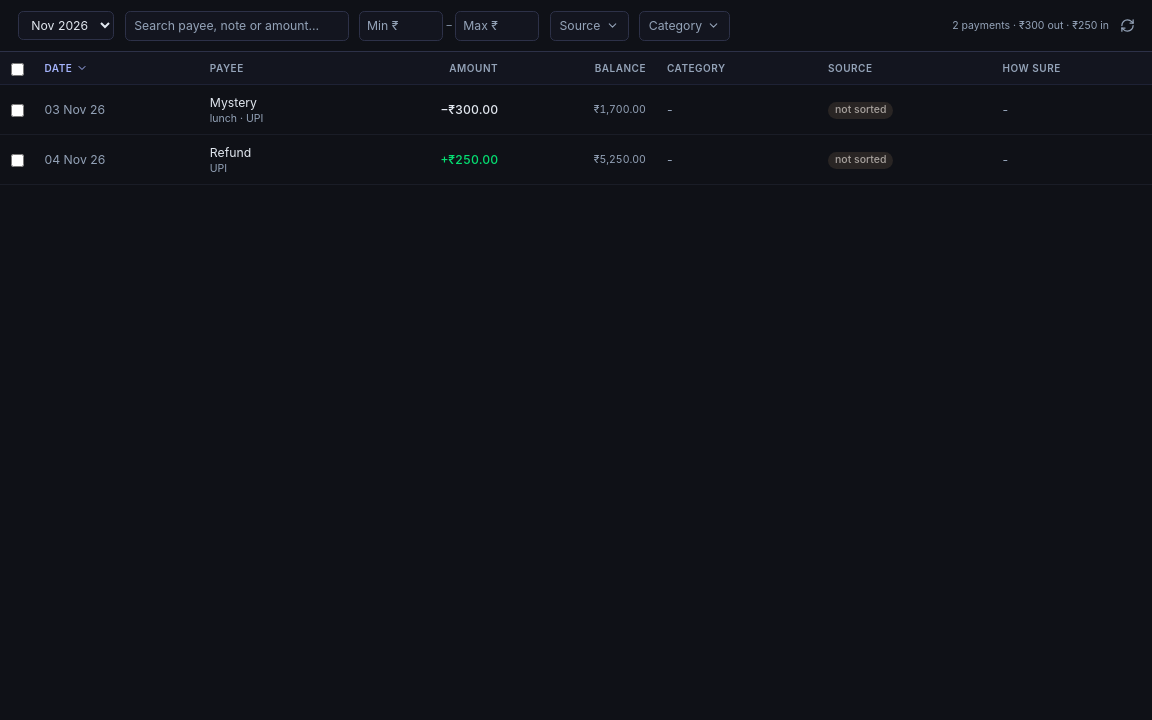
Transactions › writes a note on a payment and the row shows it at once, without a reload
Click the text "Mystery" at (233, 102), box [210,95,257,110]
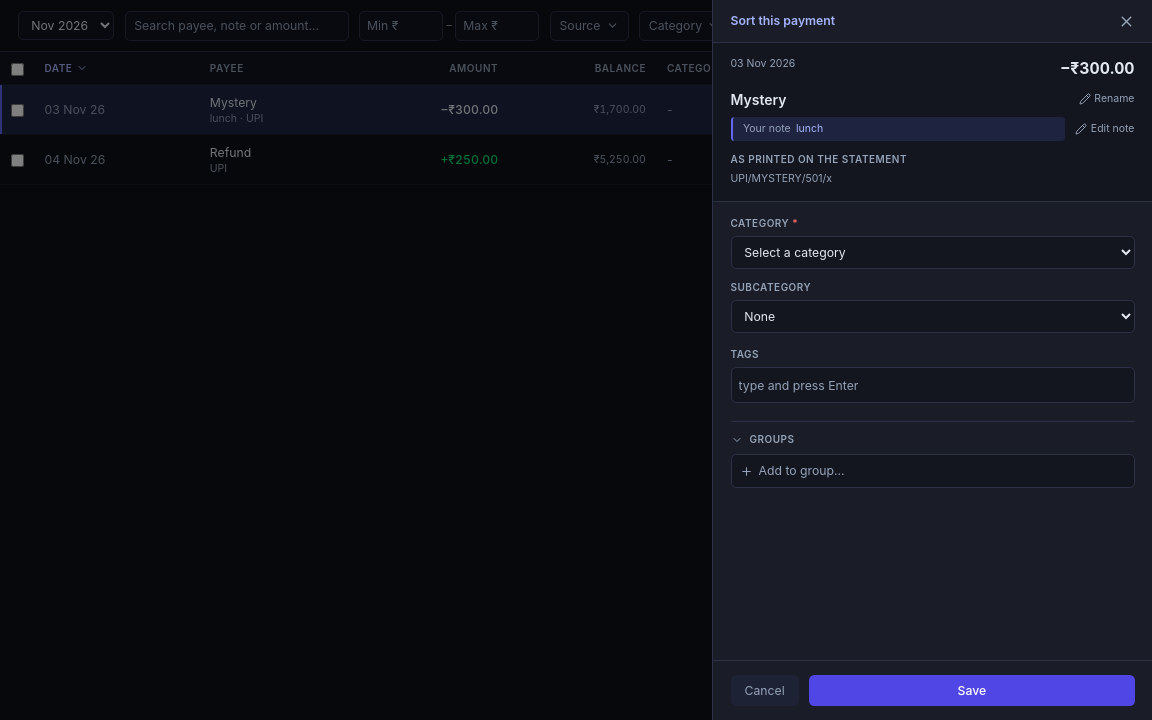
expect the text "As printed on the statement" is shown: met, box [730,152,907,164]
Click the button "Edit note" at (1105, 129), box [1075,122,1134,136]
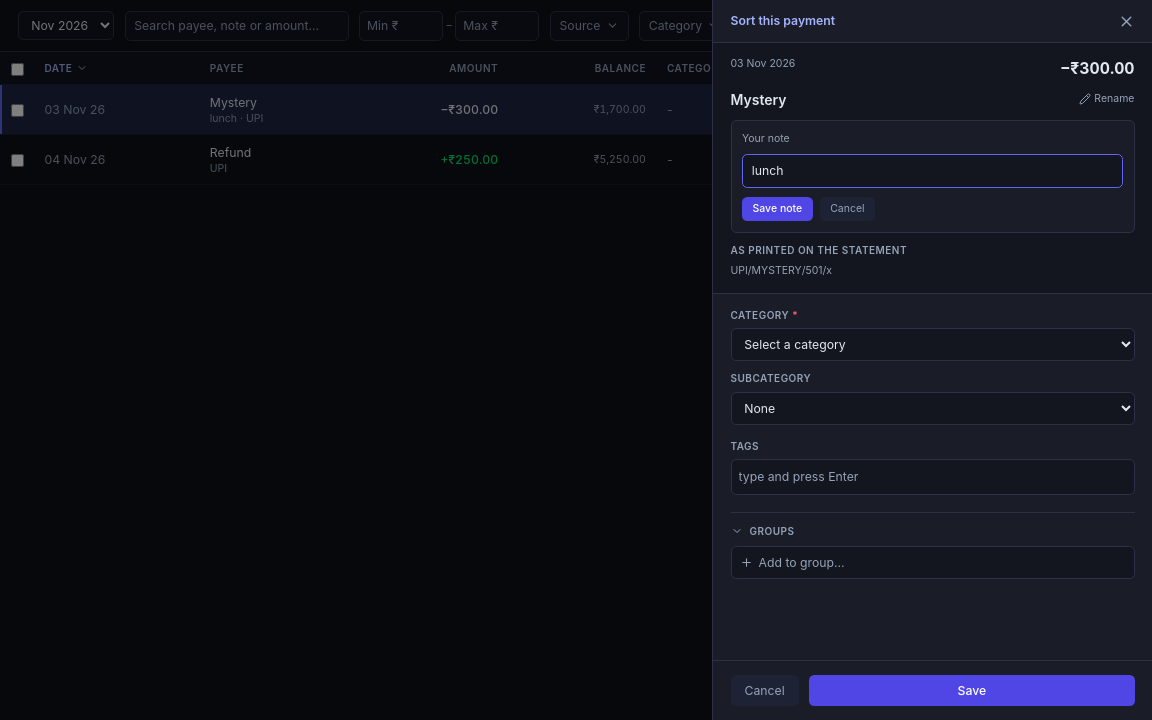
expect the field labelled "Your note" holds "lunch": met
Replace the text in the field labelled "Your note" with "team lunch" at (932, 171), box [742,154,1123,188]
Then press Enter
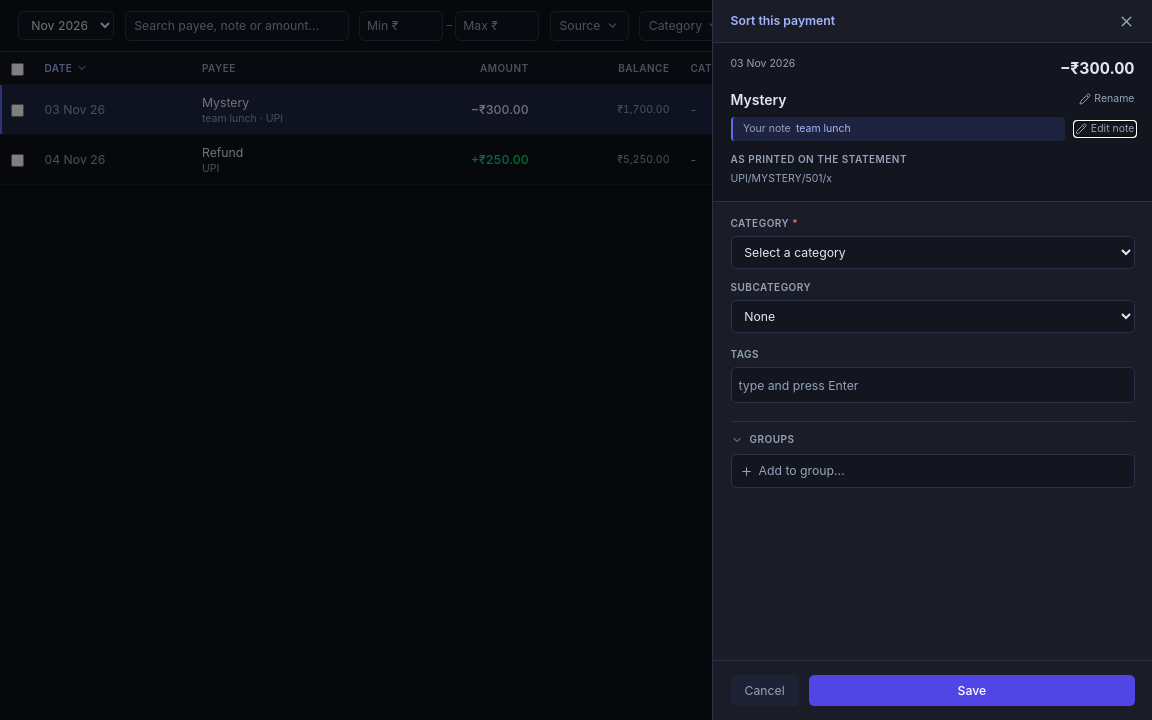
expect the text "As printed on the statement" is shown: met, box [730,152,907,164]
expect the text "team lunch · UPI" is shown: met, box [202,112,283,124]
expect the button "Edit note" is shown: met, box [1075,122,1134,136]
